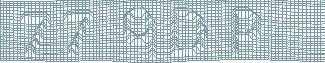7: (19, 10, 52, 59), (62, 8, 95, 57)
D: (169, 7, 208, 58)
P: (229, 5, 262, 58)
q: (121, 6, 159, 61)
